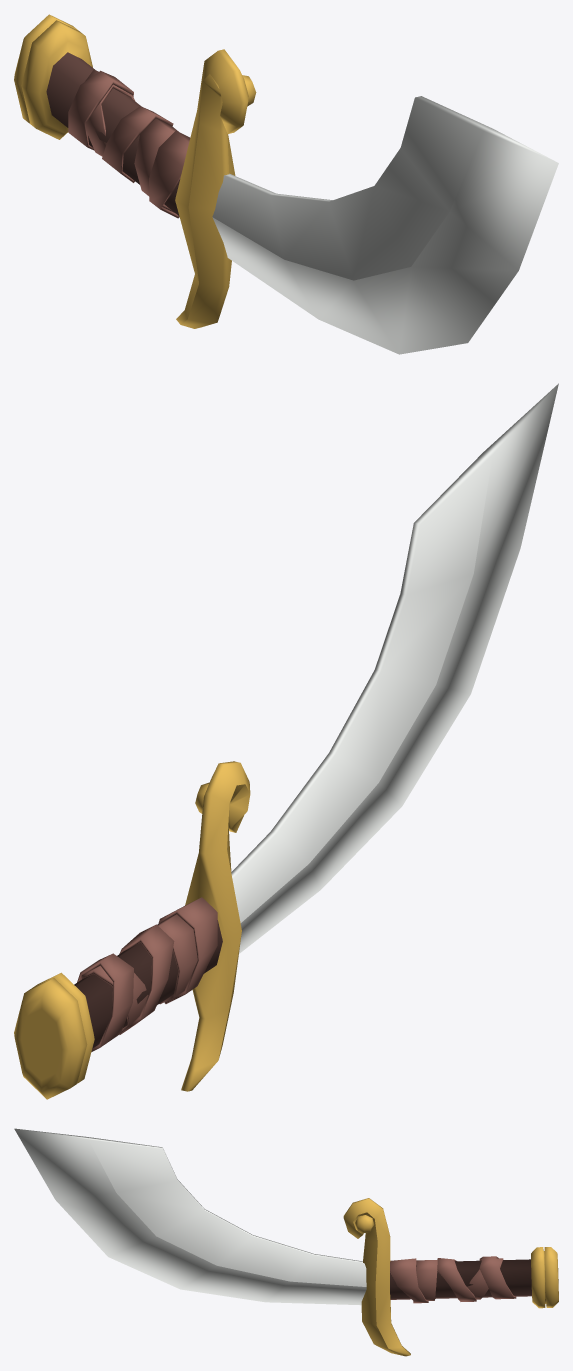
The model's file is SM_Momki_Sword_001.fbx.
3 renders of one model, top to bottom at view 1: azimuth 30°, elevation 25°; view 2: azimuth 150°, elevation 25°; view 3: azimuth 270°, elevation 25°, orthographic. The views are drawn at different scales.
Visible parts, largest first — view 1: SM_Momki_Sword_001; view 2: SM_Momki_Sword_001; view 3: SM_Momki_Sword_001.
Part boxes in pixels (<box>): SM_Momki_Sword_001: <box>14,14,558,354</box>; SM_Momki_Sword_001: <box>14,383,558,1099</box>; SM_Momki_Sword_001: <box>14,1128,558,1356</box>.
Size of the model in its own units: 77.68 by 5.83 by 35.83.
